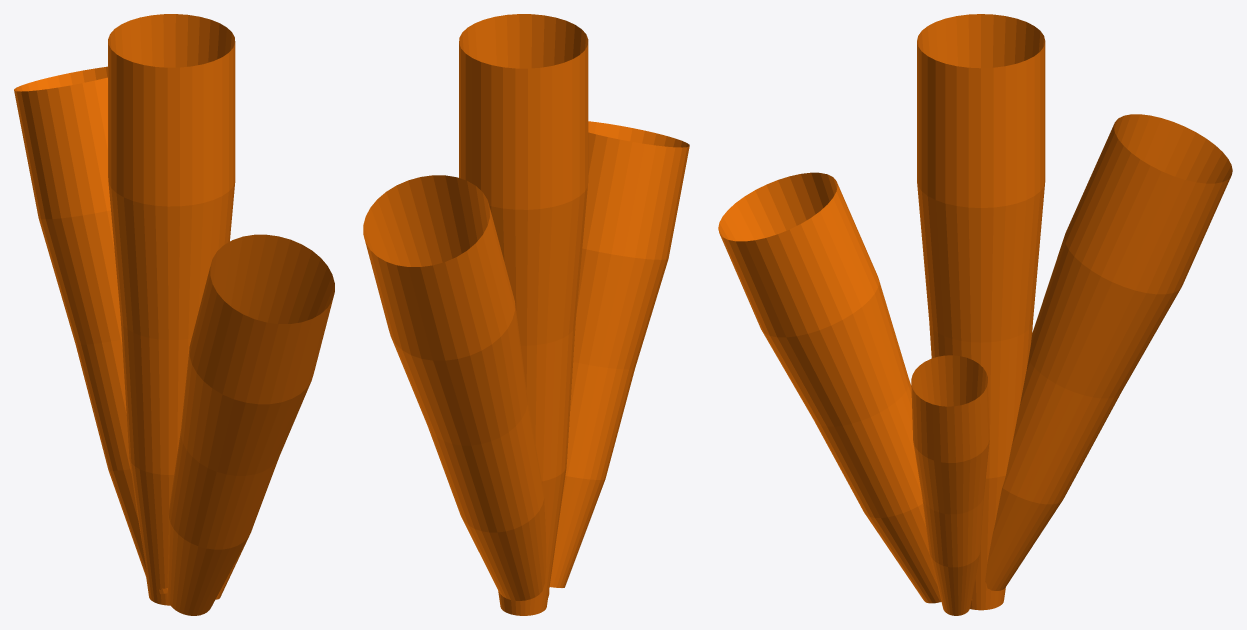
File: coral2.fbx
The picture shows the model from 3 angles, left to right: view 1: azimuth 30°, elevation 25°; view 2: azimuth 150°, elevation 25°; view 3: azimuth 270°, elevation 25°; orthographic projection.
Visible parts, largest first — view 1: Cylinder, Cylinder.002, Cylinder.001; view 2: Cylinder.001, Cylinder, Cylinder.002; view 3: Cylinder.001, Cylinder, Cylinder.002, Cylinder.003.
Boxes of the visible parts, bbox=[...] form: Cylinder: bbox=[108, 14, 235, 605]; Cylinder.002: bbox=[167, 234, 334, 615]; Cylinder.001: bbox=[14, 66, 167, 594]; Cylinder.001: bbox=[363, 175, 549, 600]; Cylinder: bbox=[459, 14, 588, 615]; Cylinder.002: bbox=[549, 121, 689, 587]; Cylinder.001: bbox=[971, 114, 1232, 600]; Cylinder: bbox=[917, 14, 1045, 610]; Cylinder.002: bbox=[718, 172, 941, 603]; Cylinder.003: bbox=[911, 355, 989, 615].
Size of the model in its own units: 101 by 288 by 241.
